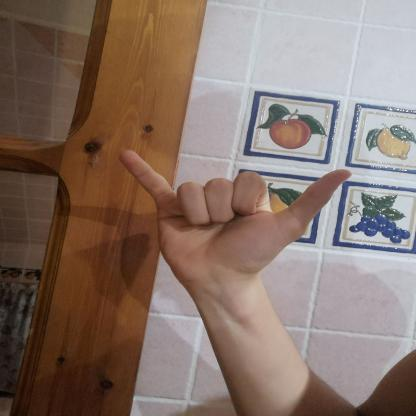YA: (98, 138, 366, 288)
